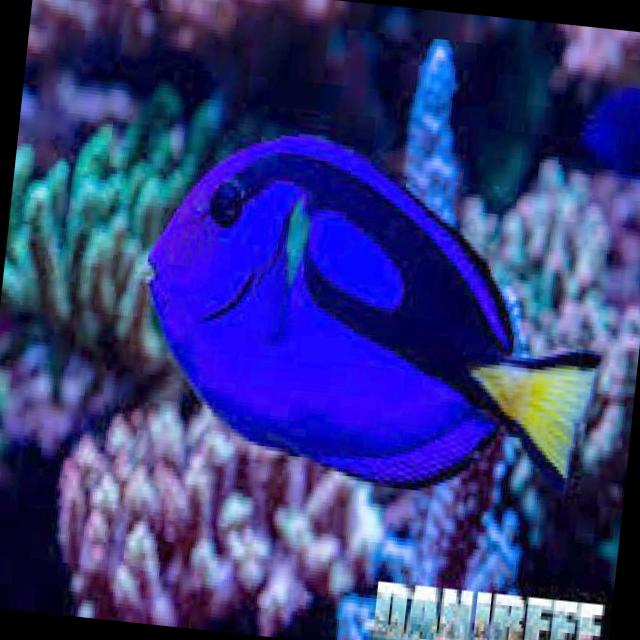TangFish: (120, 120, 624, 502)
